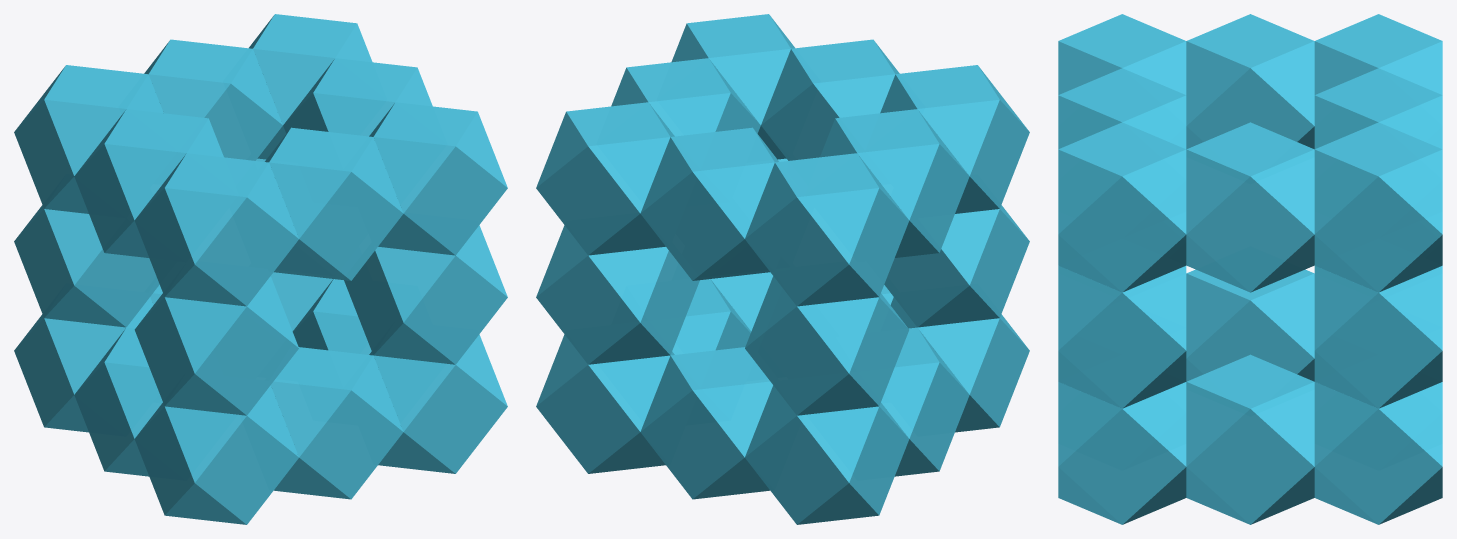
The model's file is fractalcuboctahedron1-1.glb.
The picture shows the model from 3 angles, left to right: view 1: azimuth 30°, elevation 25°; view 2: azimuth 150°, elevation 25°; view 3: azimuth 270°, elevation 25°; orthographic projection. The views are drawn at different scales.
Size of the model in its own units: 7.2 by 7.2 by 7.2.
